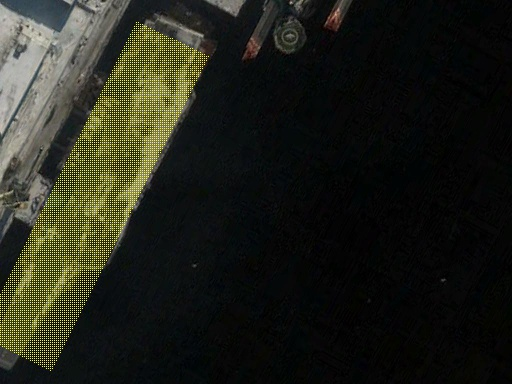ship: (1, 2, 222, 384)
